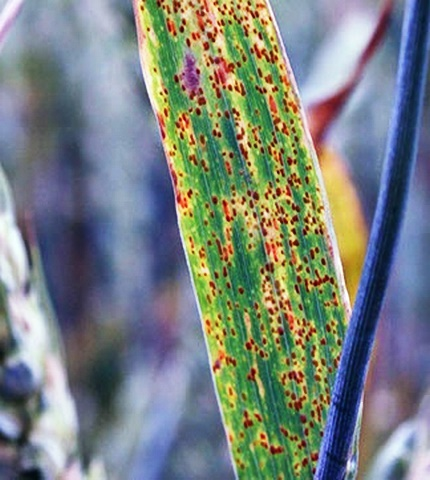Leaf Rust: (137, 2, 362, 476)
